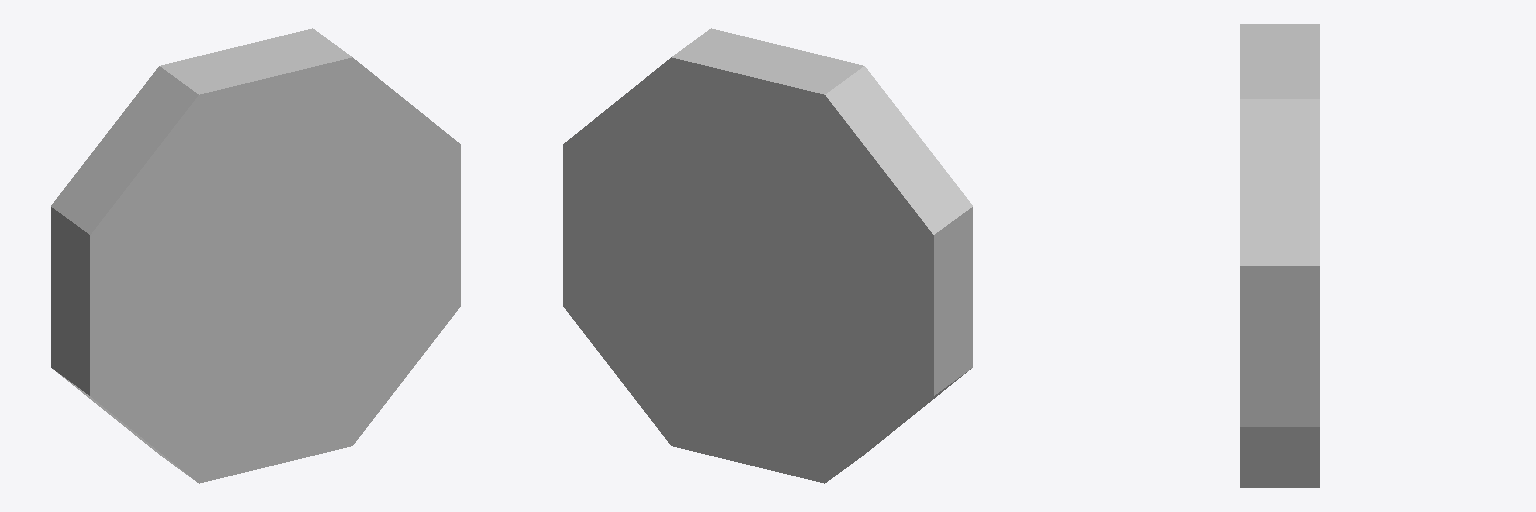
Rendered from icub_simple_collision_l_hip_pitch_link.obj.
3 views of the same model, side by side, from view 1: azimuth 30°, elevation 25°; view 2: azimuth 150°, elevation 25°; view 3: azimuth 270°, elevation 25° (orthographic).
Parts seen in each view (by area): view 1: l_hip_1_mesh_Cylinder.016; view 2: l_hip_1_mesh_Cylinder.016; view 3: l_hip_1_mesh_Cylinder.016.
Part boxes in pixels (bbox=[...]): l_hip_1_mesh_Cylinder.016: bbox=[51, 28, 460, 483]; l_hip_1_mesh_Cylinder.016: bbox=[563, 28, 972, 483]; l_hip_1_mesh_Cylinder.016: bbox=[1240, 24, 1319, 487].
Bounding box in the file's own units: 0.0702 × 0.0703 × 0.013.